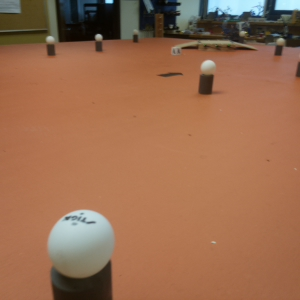blockA: (169, 45, 183, 57)
corner: (154, 11, 166, 41)
obstacle: (46, 208, 117, 300), (198, 59, 215, 93), (271, 35, 286, 57), (44, 33, 57, 56), (93, 32, 104, 52), (238, 31, 247, 43), (131, 29, 138, 44), (296, 56, 300, 78)
side: (200, 42, 236, 54)
slope: (238, 44, 256, 52), (184, 41, 197, 49)
start: (159, 68, 184, 82)
